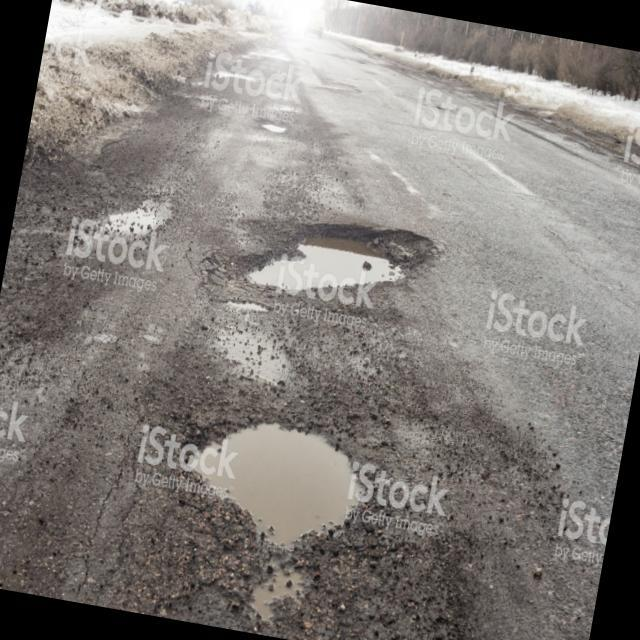Pothole: (140, 356, 424, 570), (233, 192, 459, 323), (306, 64, 384, 112), (259, 108, 318, 156)
